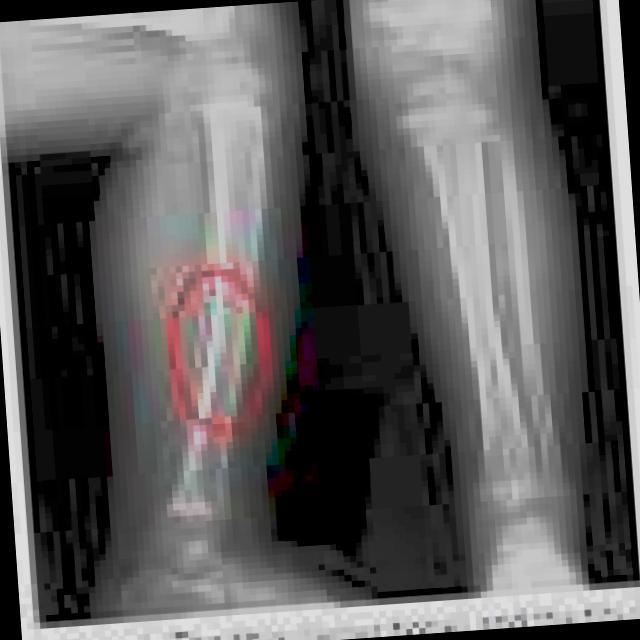spiral fracture: (201, 316, 259, 400)
